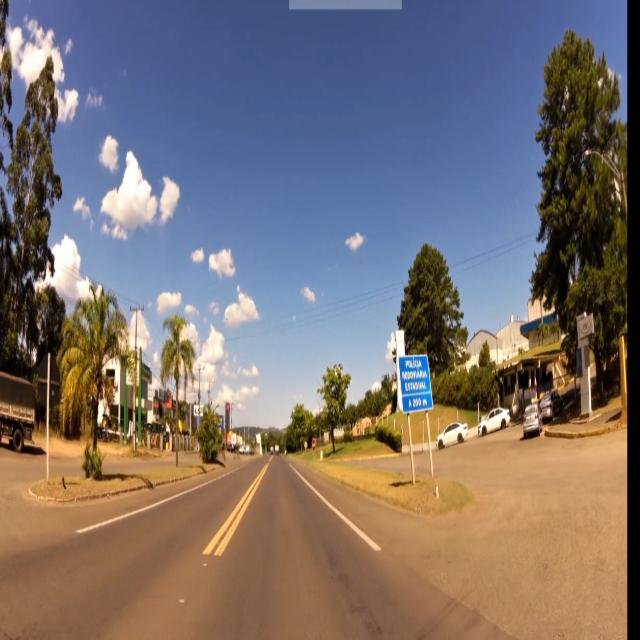LOC-6: (399, 353, 432, 409)
